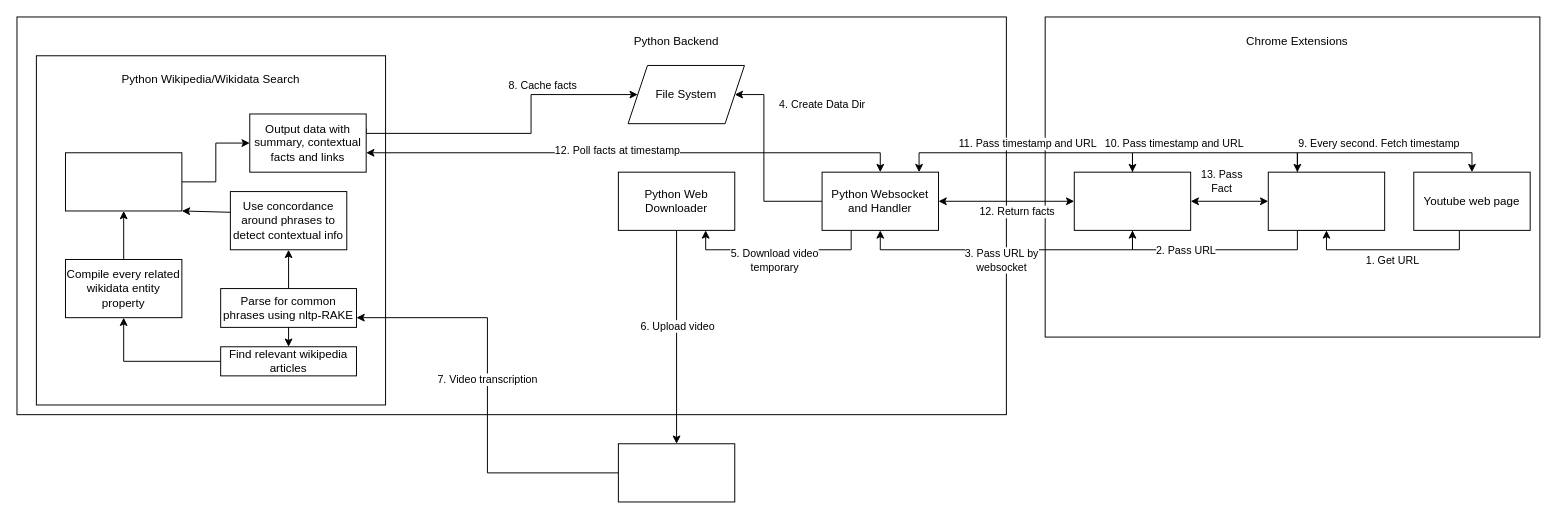
Image size: 1557x519. Some labels were removed from this diagram. The shapes that lost their labels are listed below. From the top down, each one's centre as x and y in pixels, then its label:
At pixel 123 181: "Find match property labels with contextual terms around phrases".
At pixel 1132 200: "Background.js".
At pixel 1326 200: "Content-Script.js".
At pixel 676 472: "Deepgram API".
